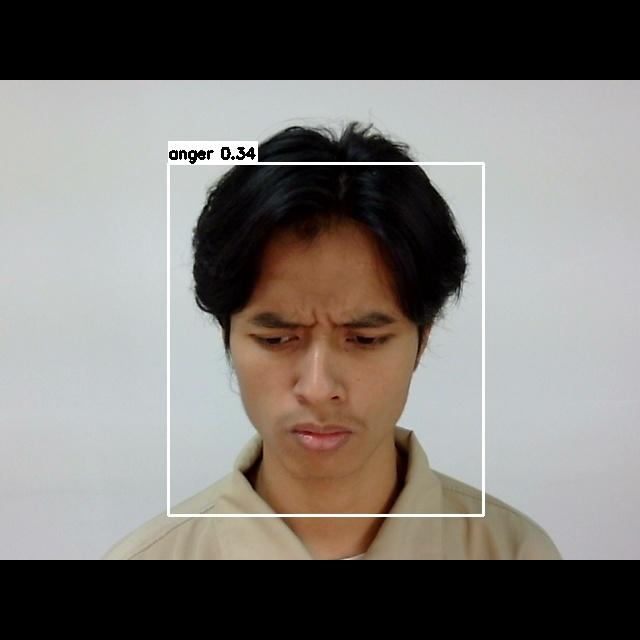Angry: (224, 282, 419, 467)
